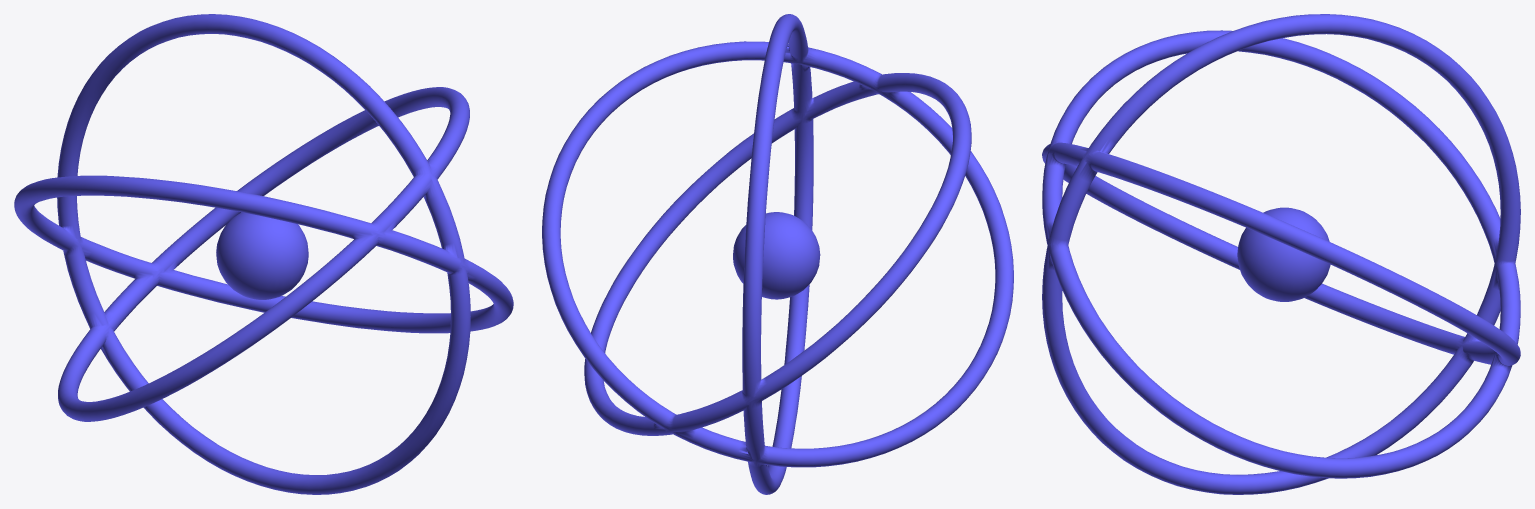
File: development-transformed.glb
3 views of the same model, side by side, from view 1: azimuth 30°, elevation 25°; view 2: azimuth 150°, elevation 25°; view 3: azimuth 270°, elevation 25° (orthographic). The views are drawn at different scales.
Parts seen in each view (by area): view 1: Torus.002, Sphere; view 2: Torus.002, Sphere; view 3: Torus.002, Sphere.
Part boxes in pixels (x1,y1,x2,y2): Torus.002: (14, 14, 513, 494); Sphere: (216, 212, 308, 299); Torus.002: (542, 14, 1013, 494); Sphere: (733, 212, 820, 299); Torus.002: (1042, 14, 1520, 494); Sphere: (1237, 207, 1330, 301).
Bounding box in the file's own units: 0.4911 × 0.5512 × 0.5074.
